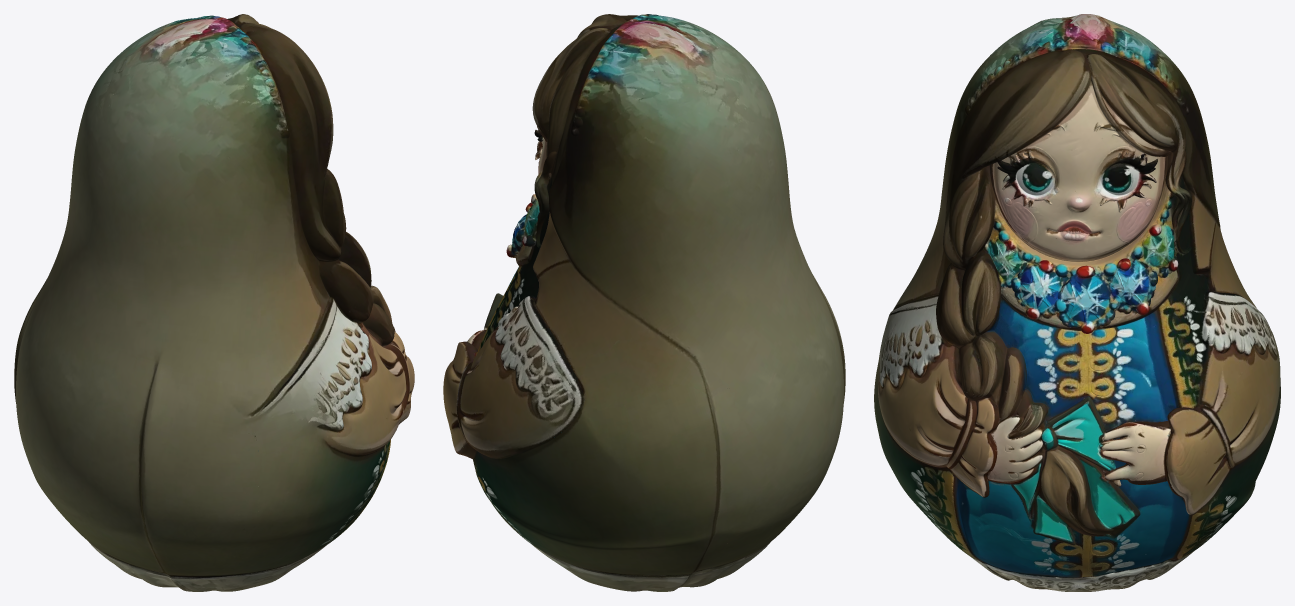
The model's file is matryoshka-malachite.glb.
The picture shows the model from 3 angles, left to right: view 1: azimuth 30°, elevation 25°; view 2: azimuth 150°, elevation 25°; view 3: azimuth 270°, elevation 25°; orthographic projection.
Visible parts, largest first — view 1: tripo_part_0, tripo_part_4, tripo_part_5, tripo_part_2, tripo_part_3; view 2: tripo_part_0, tripo_part_2, tripo_part_1, tripo_part_4, tripo_part_3; view 3: tripo_part_0, tripo_part_1, tripo_part_2, tripo_part_5, tripo_part_6, tripo_part_3.
Boxes of the visible parts, <box> form: tripo_part_0: <box>17,14,395,479</box>; tripo_part_4: <box>16,279,262,576</box>; tripo_part_5: <box>248,297,414,456</box>; tripo_part_2: <box>14,305,390,575</box>; tripo_part_3: <box>89,486,326,591</box>; tripo_part_0: <box>532,14,845,489</box>; tripo_part_2: <box>472,293,728,575</box>; tripo_part_1: <box>443,170,585,458</box>; tripo_part_4: <box>578,338,845,566</box>; tripo_part_3: <box>531,542,770,591</box>; tripo_part_0: <box>893,14,1251,483</box>; tripo_part_1: <box>986,179,1280,514</box>; tripo_part_2: <box>874,332,1280,578</box>; tripo_part_5: <box>878,294,1003,497</box>; tripo_part_6: <box>1099,421,1171,487</box>; tripo_part_3: <box>970,551,1193,591</box>.
Bounding box in the file's own units: 0.6774 × 1 × 0.6955.
Materials: 7 (7 with a texture image).
